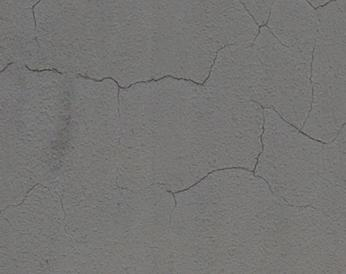fissura: (0, 0, 346, 221)
